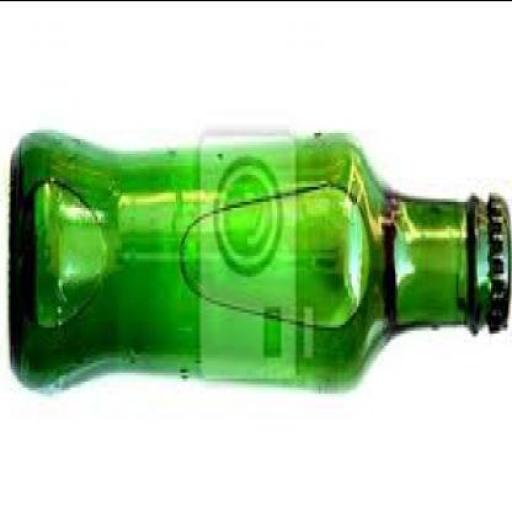glass: (10, 135, 493, 392)
metal: (487, 199, 511, 336)
